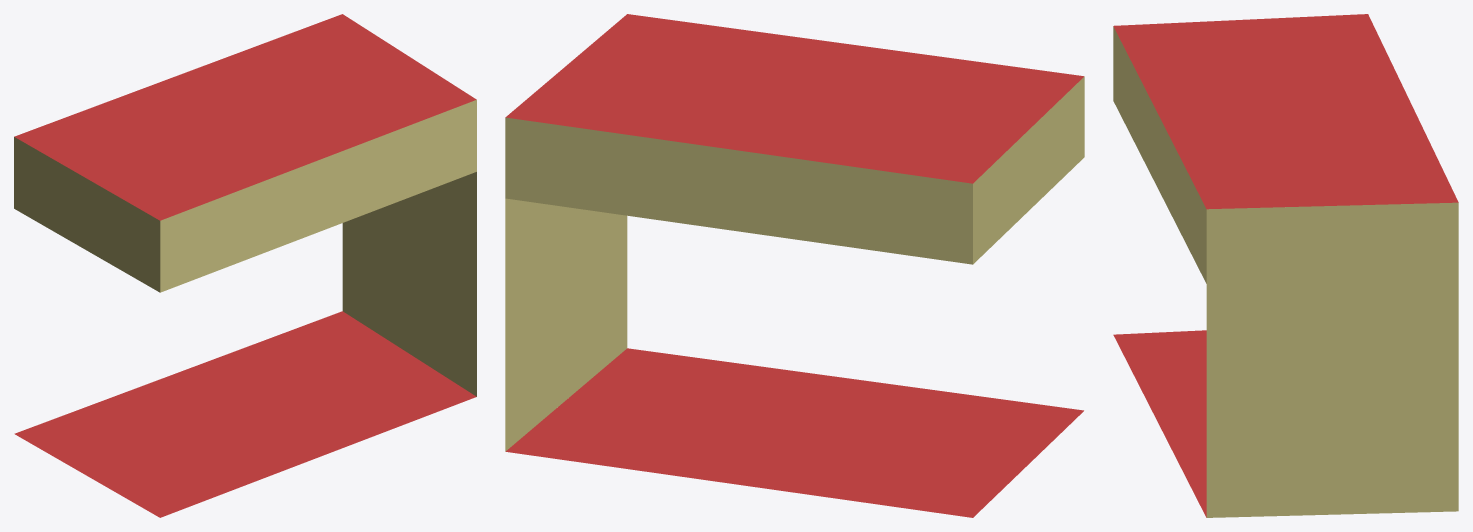
3 views of the same model, side by side, from view 1: azimuth 30°, elevation 25°; view 2: azimuth 150°, elevation 25°; view 3: azimuth 270°, elevation 25° (orthographic). The views are drawn at different scales.
Parts seen in each view (by area): view 1: group_4, group_5, group_3; view 2: group_4, group_3, group_5; view 3: group_4, group_3, group_5.
Boxes of the visible parts, box(x1,y1,x2,y2) form: group_4: box(14, 100, 476, 396); group_5: box(14, 311, 476, 517); group_3: box(14, 14, 476, 220); group_4: box(505, 76, 1084, 451); group_3: box(505, 14, 1083, 183); group_5: box(505, 348, 1083, 517); group_4: box(1113, 26, 1458, 517); group_3: box(1113, 14, 1458, 209); group_5: box(1113, 330, 1206, 517).
Size of the model in its own units: 17.15 by 12.83 by 12.65.
